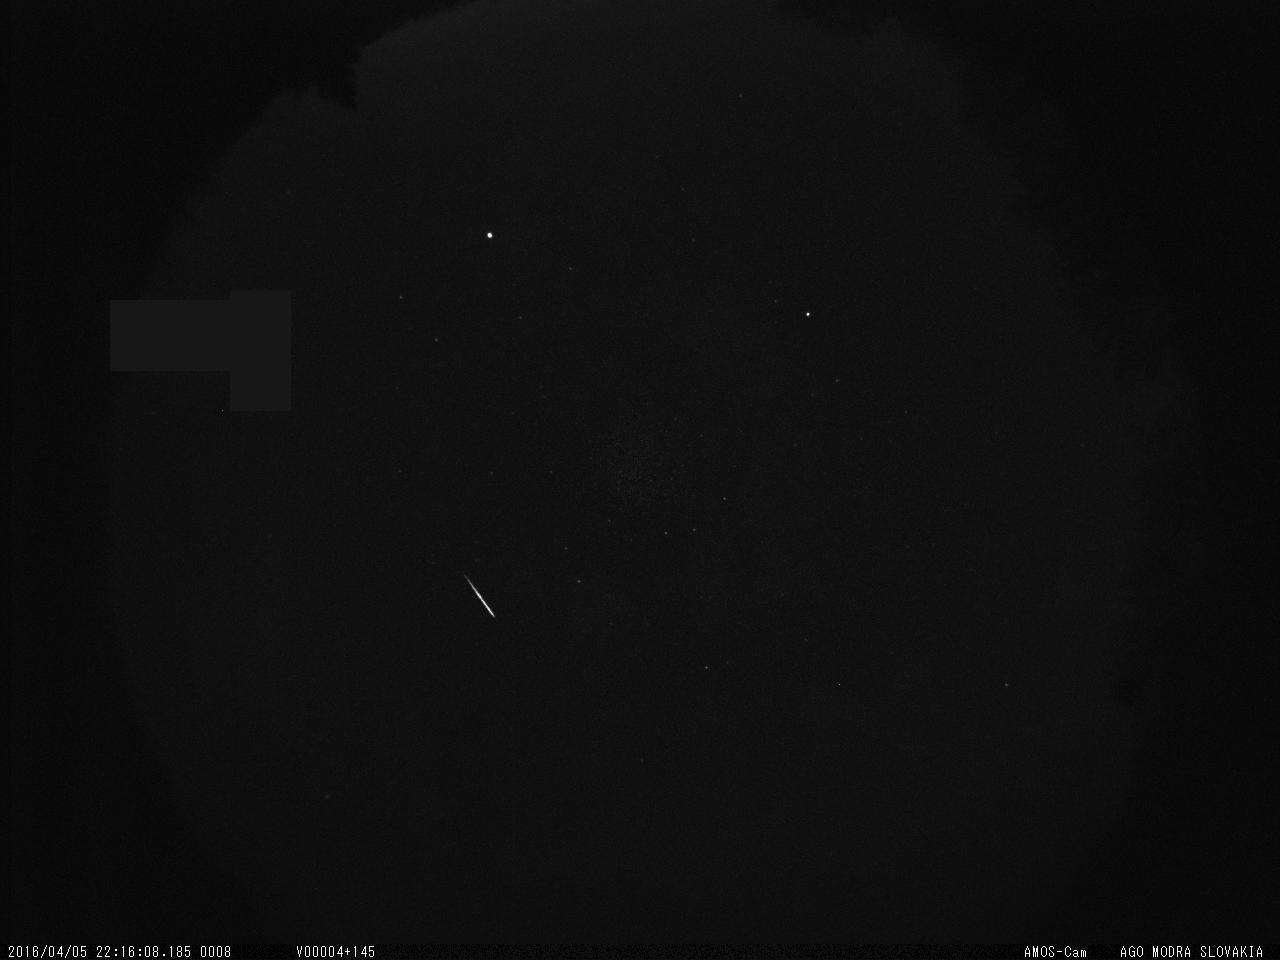meteor: (419, 558, 539, 640)
